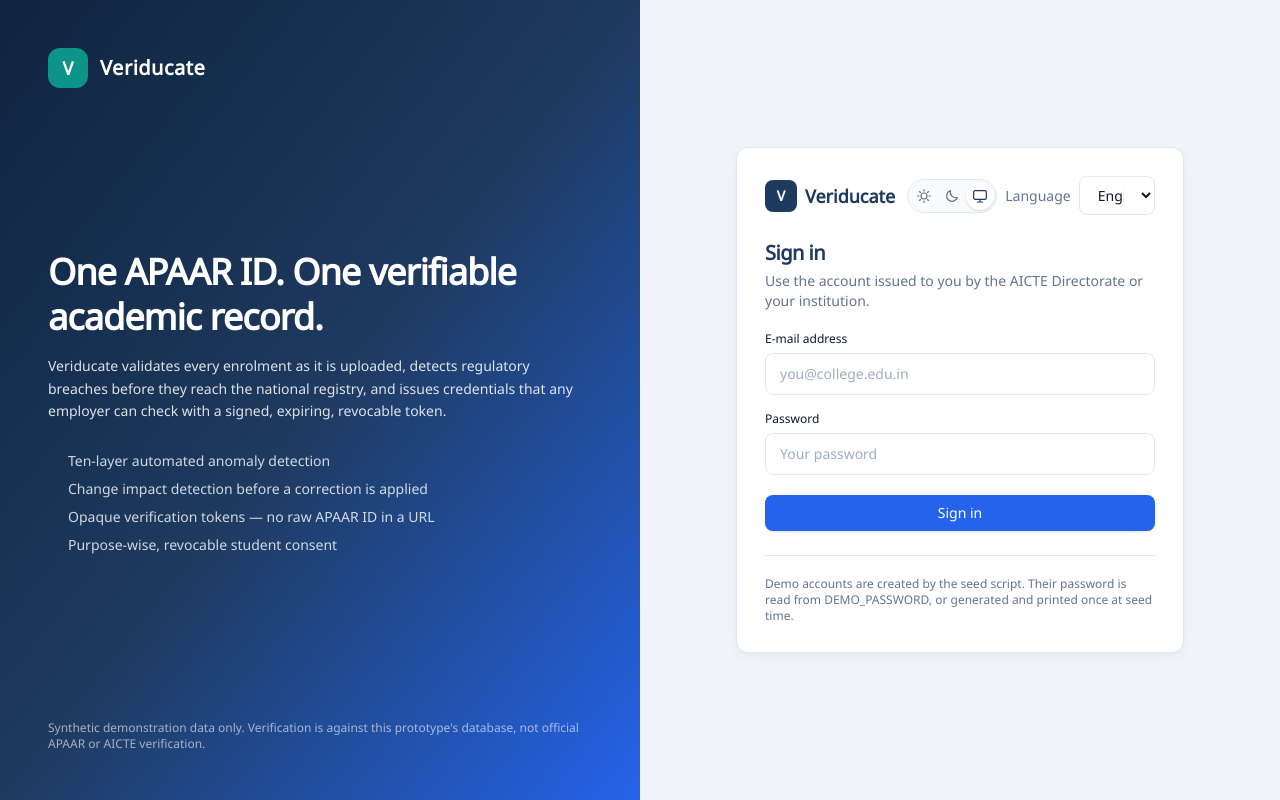
LoginPage › shows the server error message
Type "aicte@veriducate.test" into the field labelled "E-mail address" at (960, 374), box [765,353,1155,395]
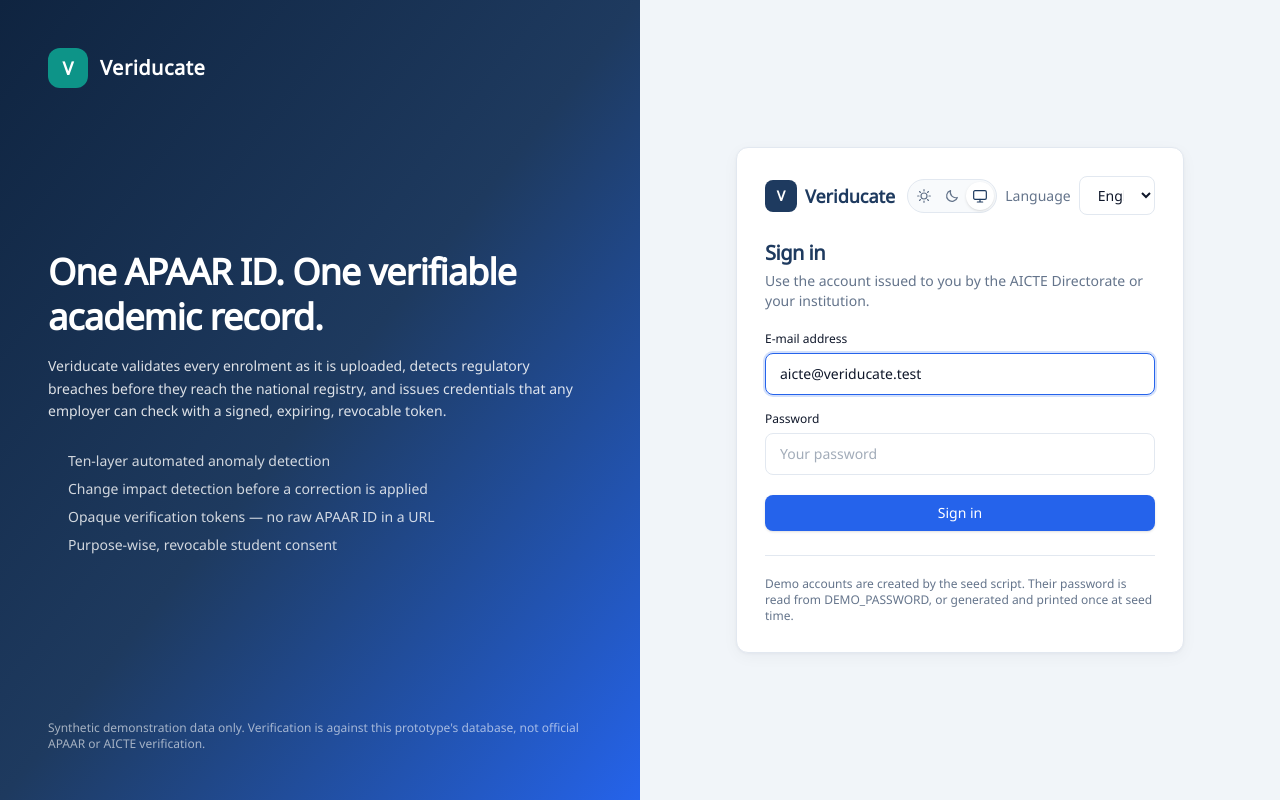
Type "wrong" into the password field labelled "Password" at (960, 454), box [765,433,1155,475]
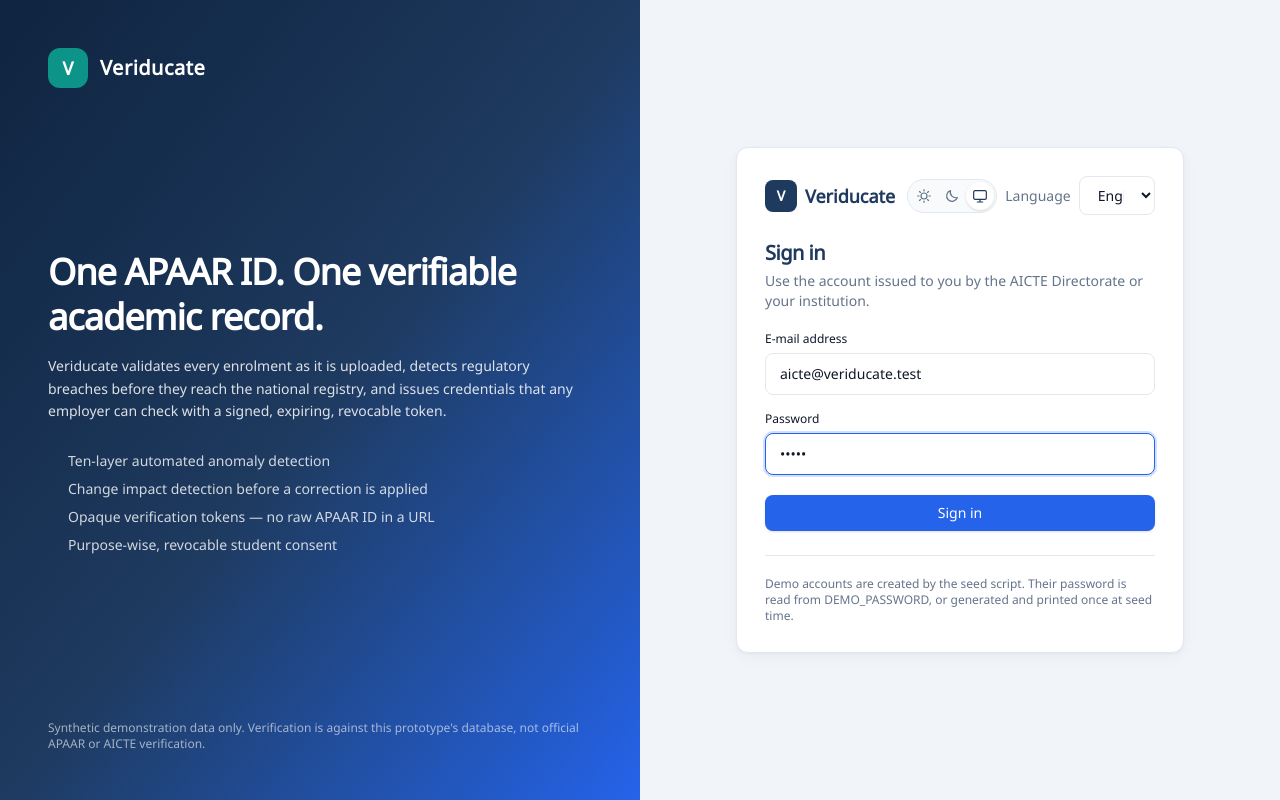
Click the button "Sign in" at (960, 513), box [765,495,1155,531]
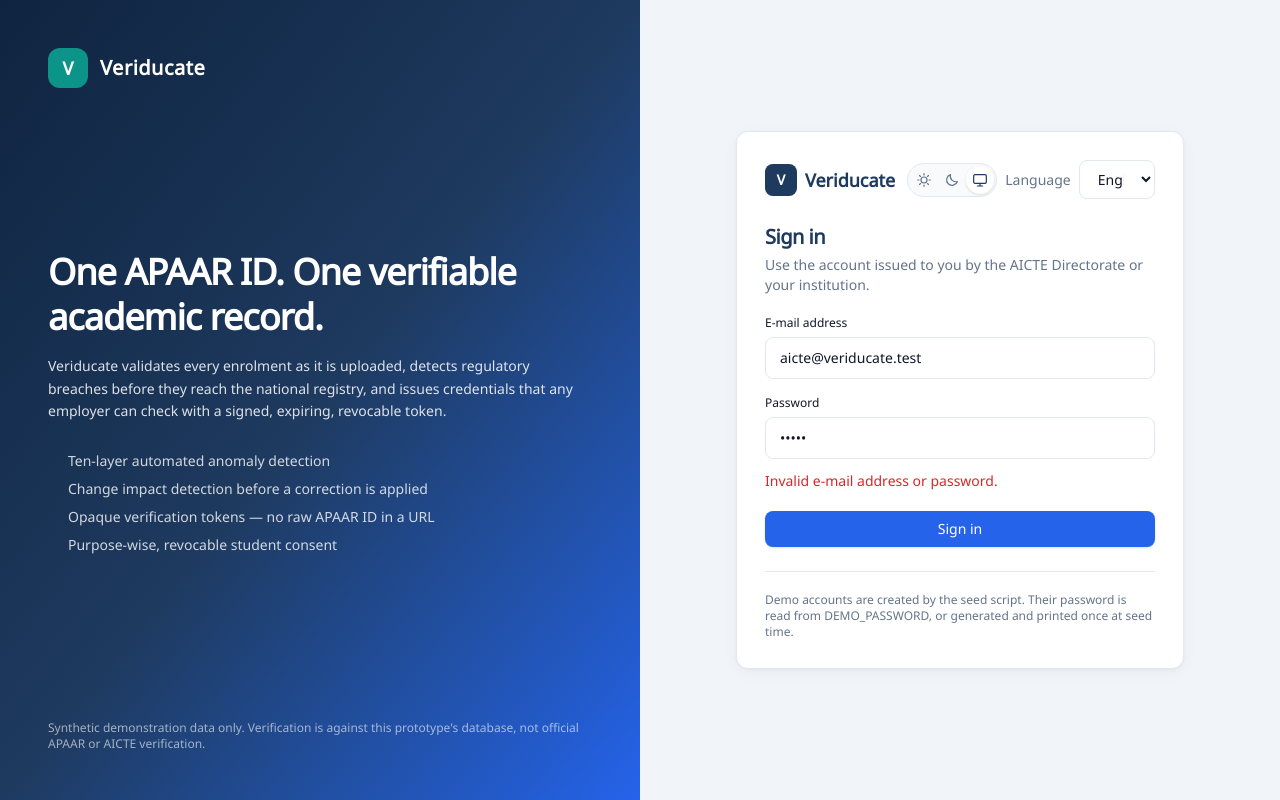
Now the message reads "Invalid e-mail address or password.", box [765,471,998,490]
